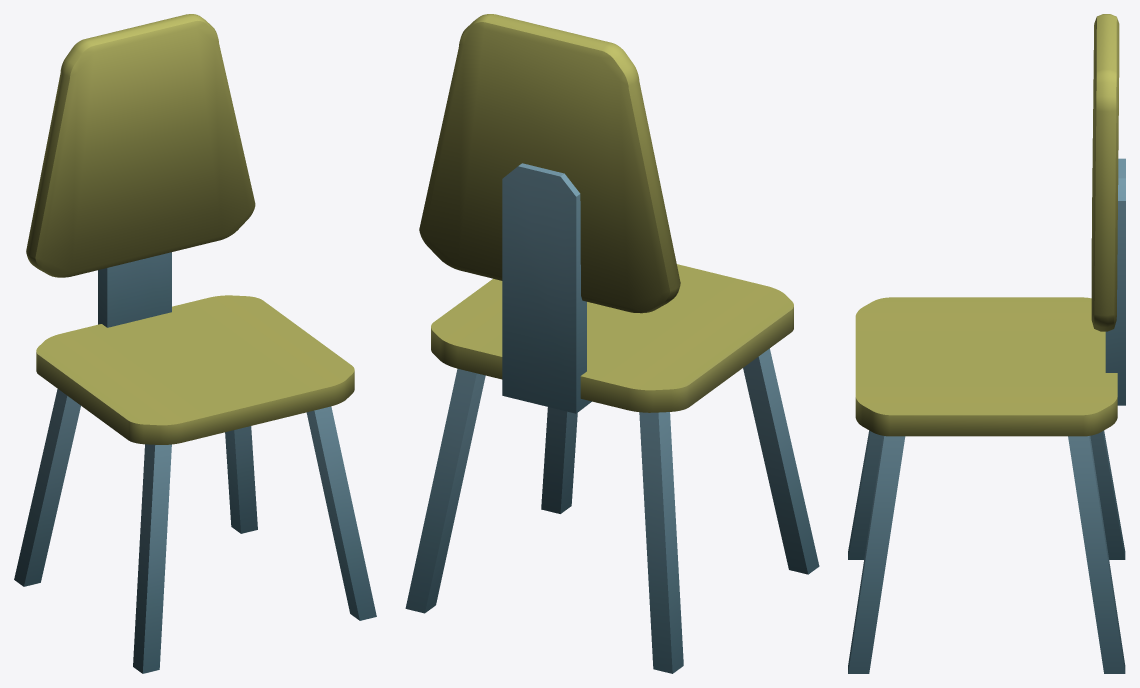
The model's file is BedChair.fbx.
3 views of the same model, side by side, from view 1: azimuth 30°, elevation 25°; view 2: azimuth 150°, elevation 25°; view 3: azimuth 270°, elevation 25° (orthographic). The views are drawn at different scales.
Parts seen in each view (by area): view 1: BedChair; view 2: BedChair; view 3: BedChair.
Part boxes in pixels (bbox=[...]): BedChair: bbox=[14, 14, 376, 673]; BedChair: bbox=[405, 14, 819, 673]; BedChair: bbox=[848, 14, 1125, 673].
Size of the model in its own units: 0.5588 by 0.5331 by 1.21.
